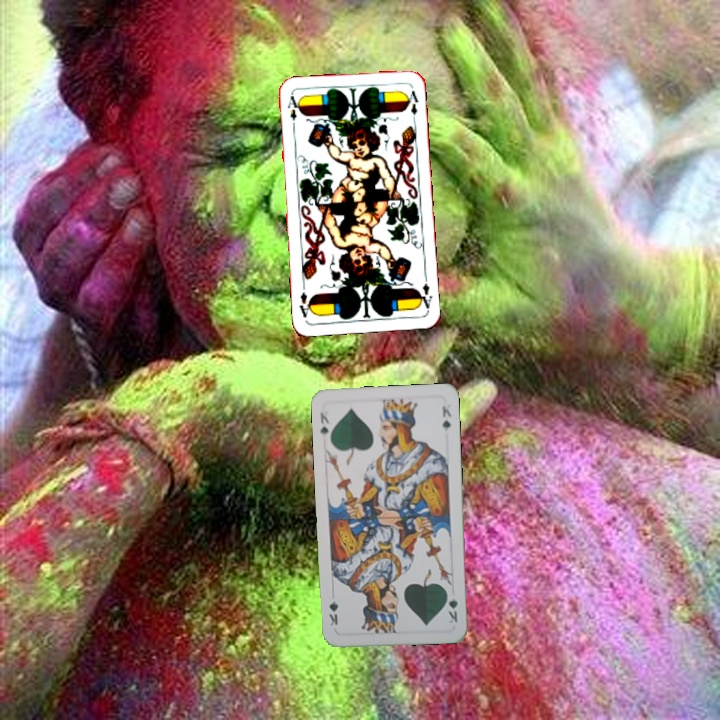EA: (414, 272, 435, 312), (283, 91, 301, 123)
GK: (443, 587, 460, 626), (316, 408, 332, 440)
